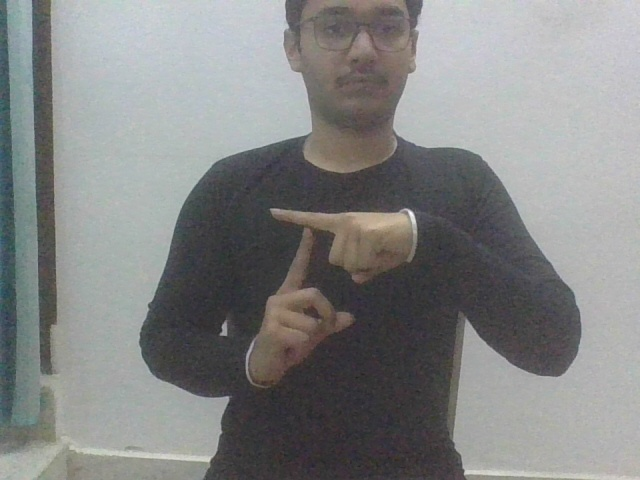T: (244, 203, 418, 390)
